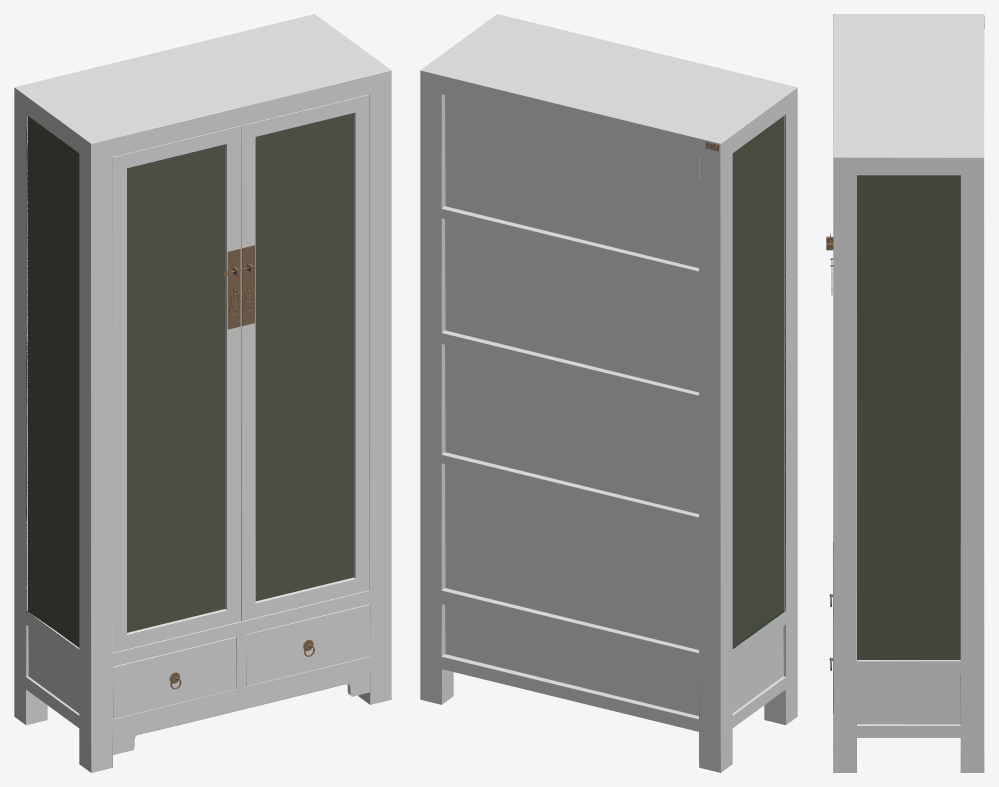
The model's file is glass_cabinet.gltf.
The picture shows the model from 3 angles, left to right: view 1: azimuth 30°, elevation 25°; view 2: azimuth 150°, elevation 25°; view 3: azimuth 270°, elevation 25°; orthographic projection. The views are drawn at different scales.
Parts seen in each view (by area): view 1: main (×2); view 2: main (×2); view 3: main (×2).
Boxes of the visible parts, bbox=[...] form: main (×2): bbox=[14, 14, 391, 772]; main (×2): bbox=[420, 14, 797, 772]; main (×2): bbox=[826, 14, 984, 772].
Bounding box in the file's own units: 0.9008 × 1.8 × 0.4196.
2 materials, 2 textured.
